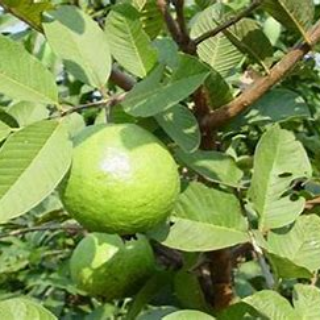oi: (58, 121, 188, 242)
